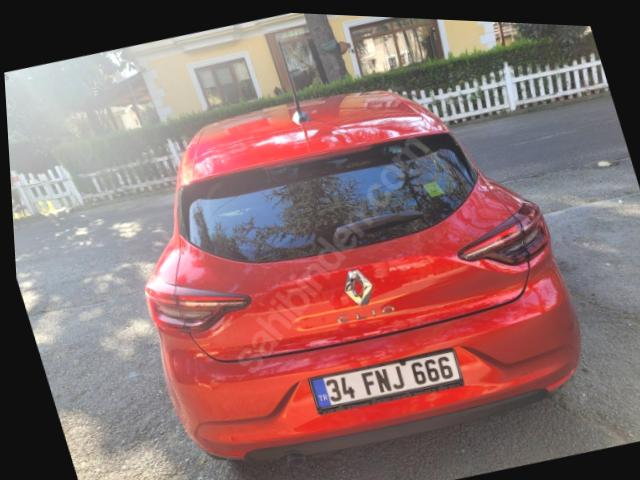plaka: (310, 350, 462, 409)
